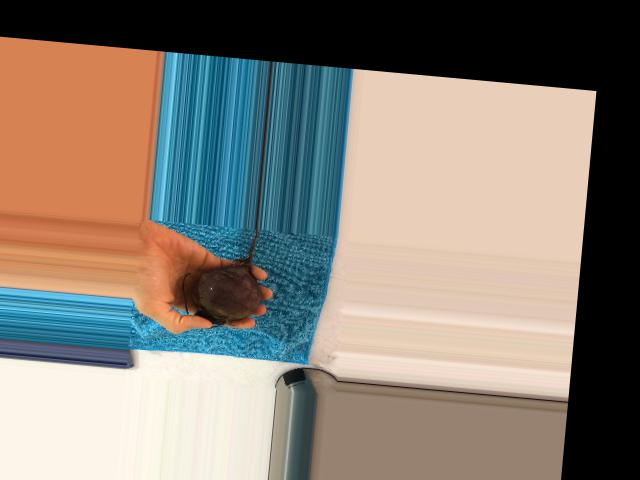beet: (179, 222, 268, 332)
